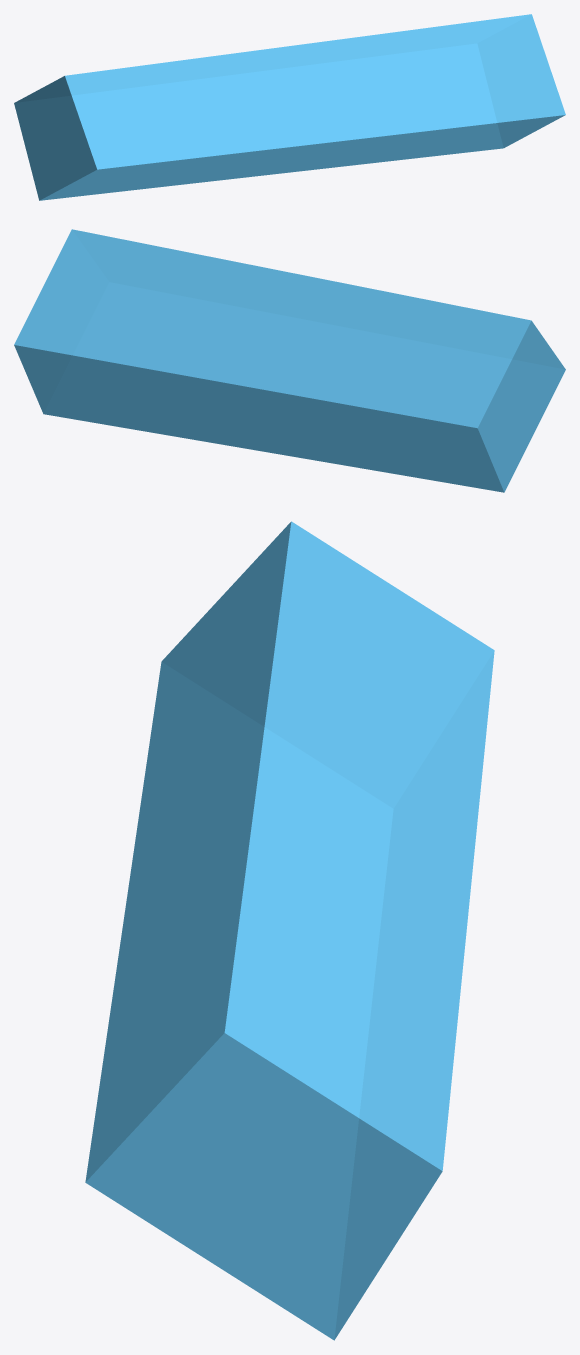
The model's file is Event_420107950_HErechit_42.fbx.
3 views of the same model, one above another, from view 1: azimuth 30°, elevation 25°; view 2: azimuth 150°, elevation 25°; view 3: azimuth 270°, elevation 25° (orthographic). The views are drawn at different scales.
Visible parts, largest first — view 1: Model; view 2: Model; view 3: Model.
Part boxes in pixels (x1,y1,x2,y2): Model: (14, 14, 565, 200); Model: (14, 229, 565, 492); Model: (85, 521, 494, 1340).
Size of the model in its own units: 0.7419 by 0.2995 by 0.2919.
